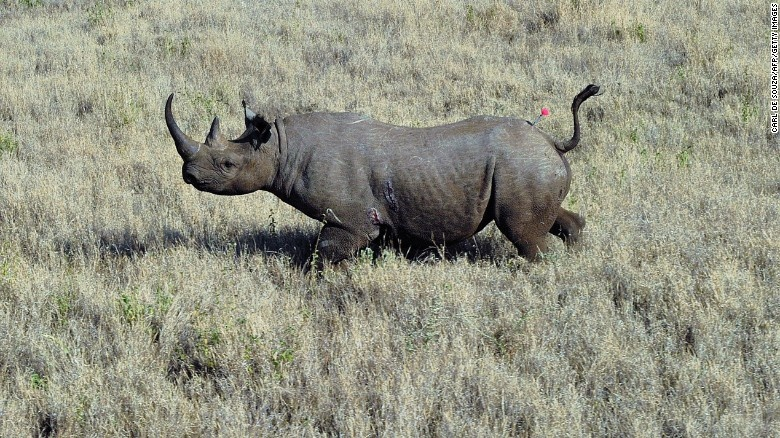rhino: (384, 180, 780, 378)
